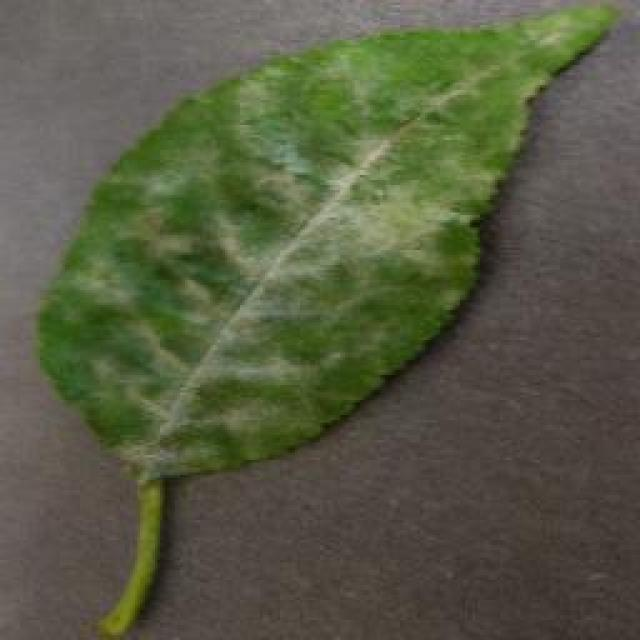Cherry___Powdery_mildew: (12, 2, 628, 640)
